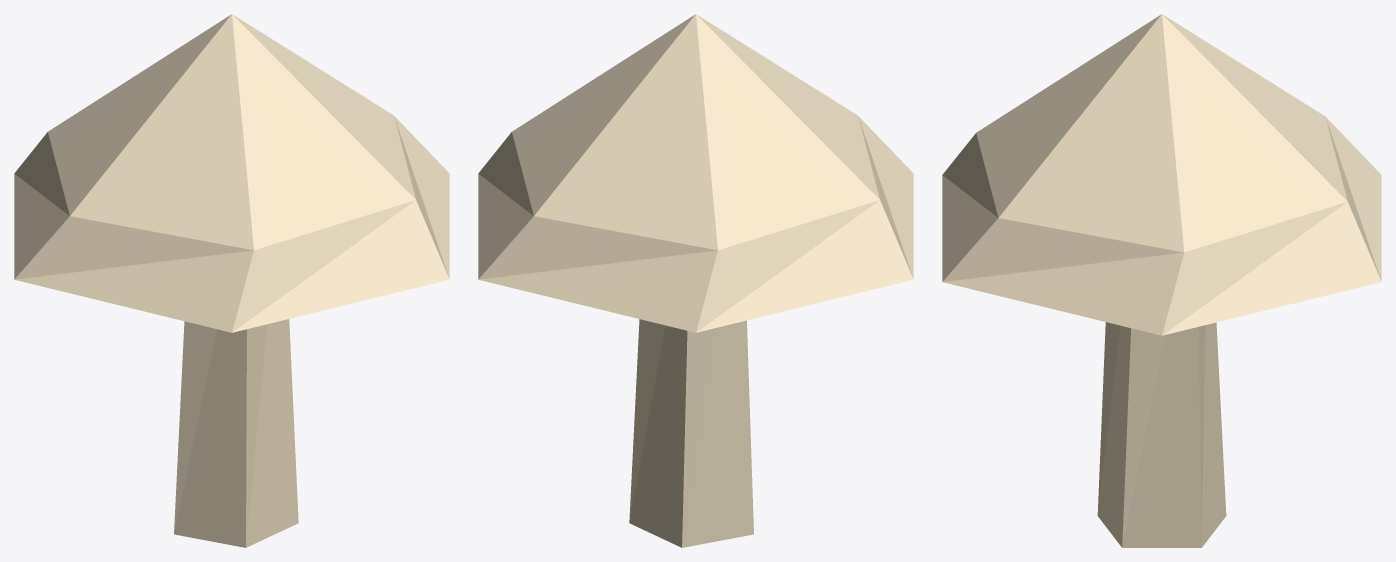
The picture shows the model from 3 angles, left to right: view 1: azimuth 30°, elevation 25°; view 2: azimuth 150°, elevation 25°; view 3: azimuth 270°, elevation 25°; orthographic projection.
Visible parts, largest first — view 1: 原森林蘑菇_1.001; view 2: 原森林蘑菇_1.001; view 3: 原森林蘑菇_1.001.
Boxes of the visible parts, x1,y1,x2,y2 form: 原森林蘑菇_1.001: (14,14,449,547); 原森林蘑菇_1.001: (478,14,913,547); 原森林蘑菇_1.001: (942,14,1381,547).
Size of the model in its own units: 0.09 by 0.1 by 0.0779.
